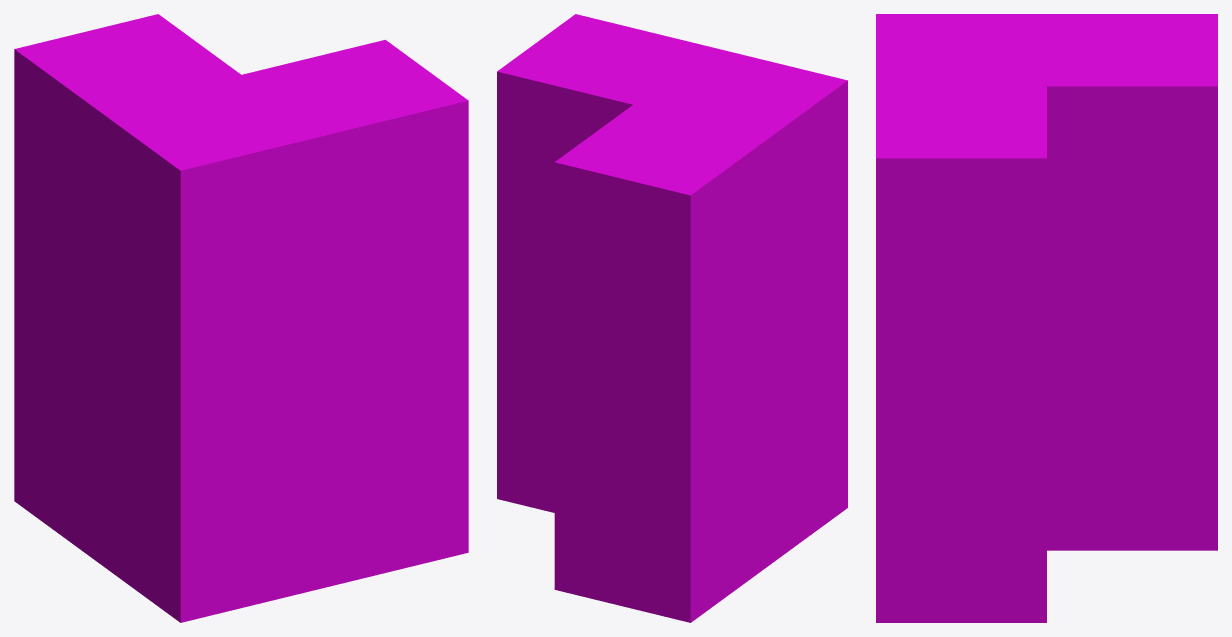
Rendered from wall_edge_4.fbx.
The picture shows the model from 3 angles, left to right: view 1: azimuth 30°, elevation 25°; view 2: azimuth 150°, elevation 25°; view 3: azimuth 270°, elevation 25°; orthographic projection. The views are drawn at different scales.
Parts seen in each view (by area): view 1: wall_edge_4; view 2: wall_edge_4; view 3: wall_edge_4.
Part boxes in pixels (x1,y1,x2,y2): wall_edge_4: (14, 14, 468, 622); wall_edge_4: (497, 14, 847, 622); wall_edge_4: (876, 14, 1217, 622).
Bounding box in the file's own units: 2 × 3 × 2.
